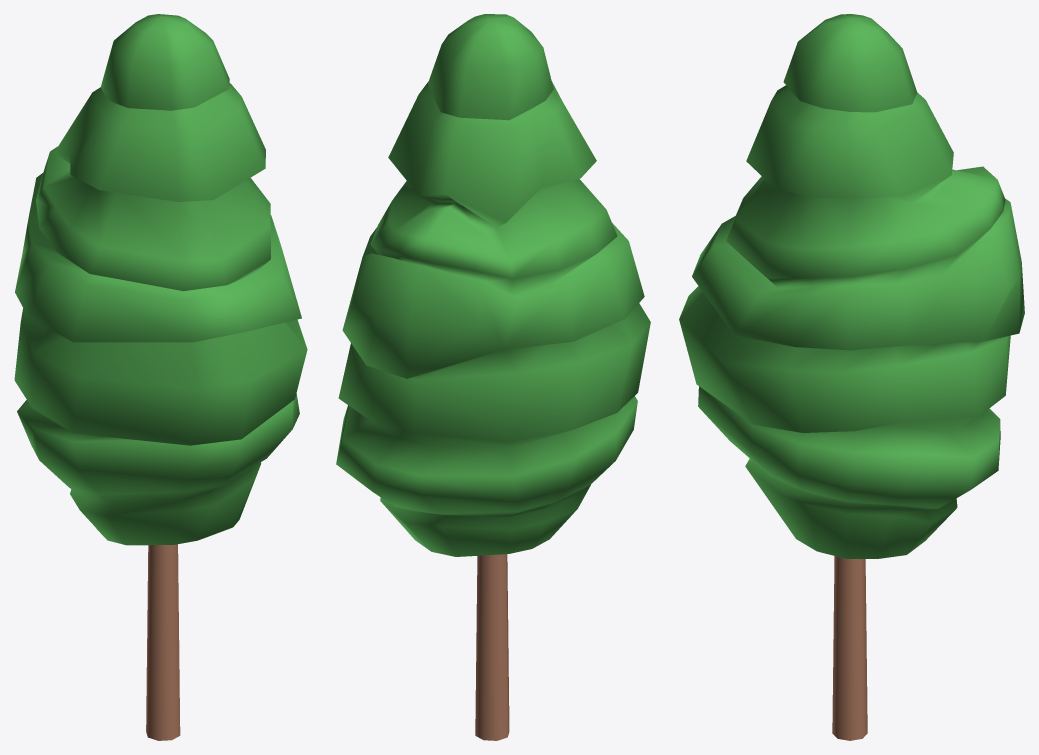
Rendered from Tree_A1.fbx.
The picture shows the model from 3 angles, left to right: view 1: azimuth 30°, elevation 25°; view 2: azimuth 150°, elevation 25°; view 3: azimuth 270°, elevation 25°; orthographic projection.
Visible parts, largest first — view 1: Tree_A1; view 2: Tree_A1; view 3: Tree_A1.
Boxes of the visible parts, x1,y1,x2,y2 form: Tree_A1: (14, 14, 307, 740); Tree_A1: (336, 14, 650, 740); Tree_A1: (679, 14, 1024, 740).
Bounding box in the file's own units: 99.59 × 265 × 116.
